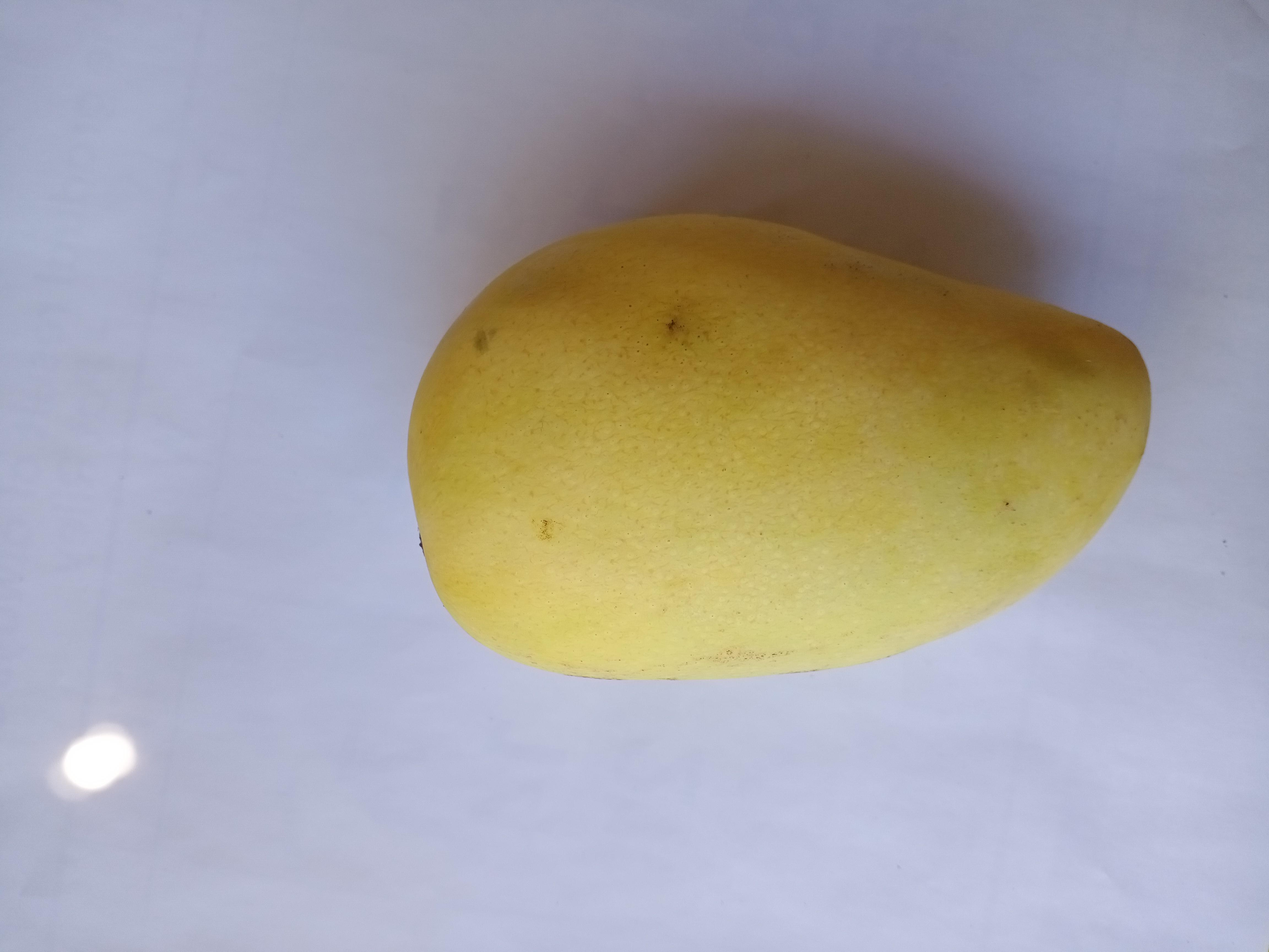Mango Ripe: (363, 187, 1129, 667)
